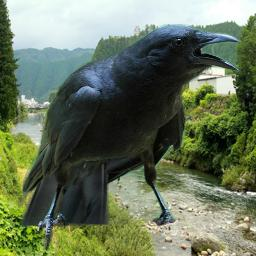Crow: (15, 24, 241, 249)
